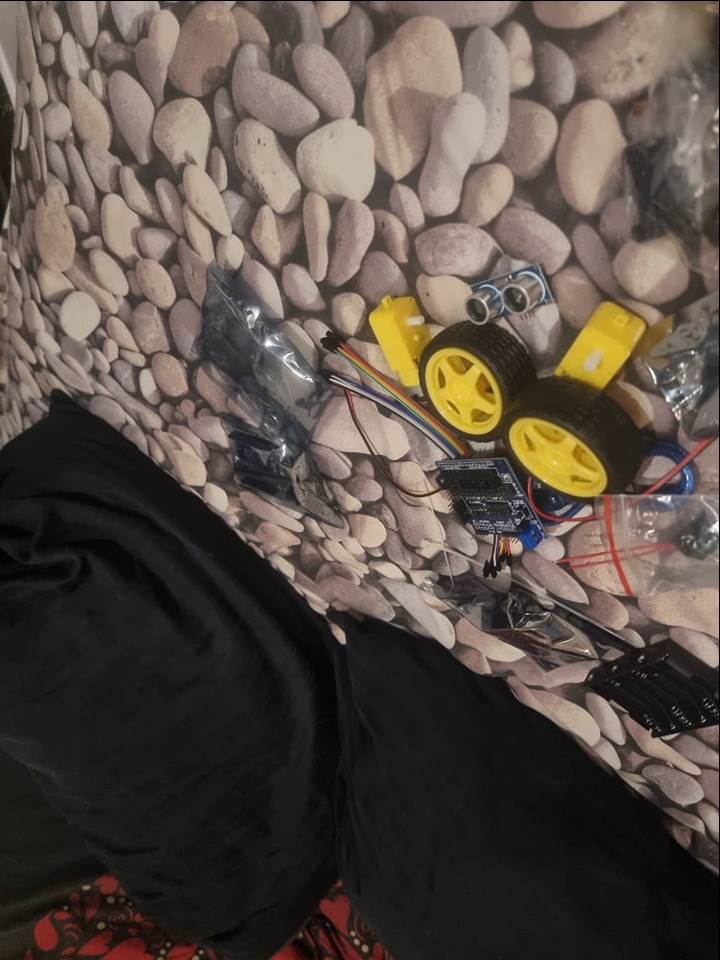5V EXPANSION: (435, 455, 548, 548)
BATTERY BOX: (586, 637, 720, 747)
SENSOR: (464, 268, 556, 324)
